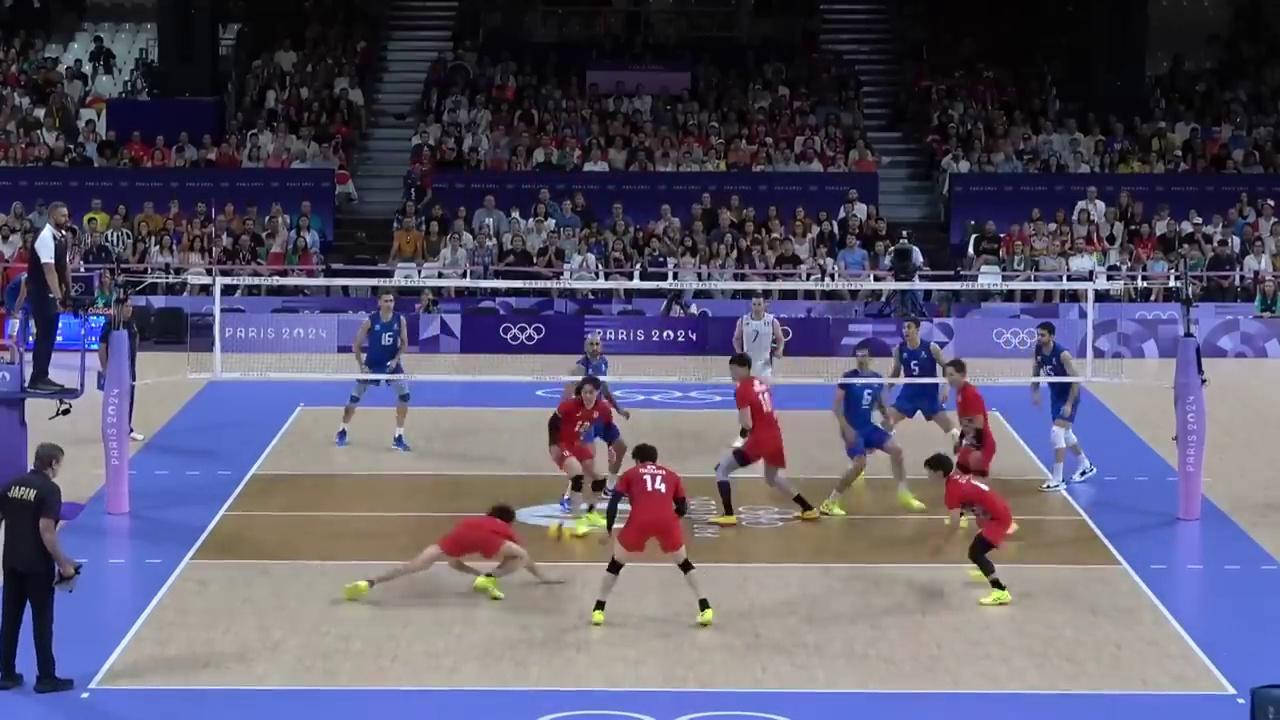ball: (546, 523, 573, 543)
